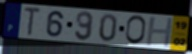0: (99, 13, 119, 43)
6: (46, 10, 65, 39)
9: (75, 10, 95, 42)
H: (144, 16, 175, 47)
O: (124, 14, 148, 46)
T: (23, 6, 42, 37)
